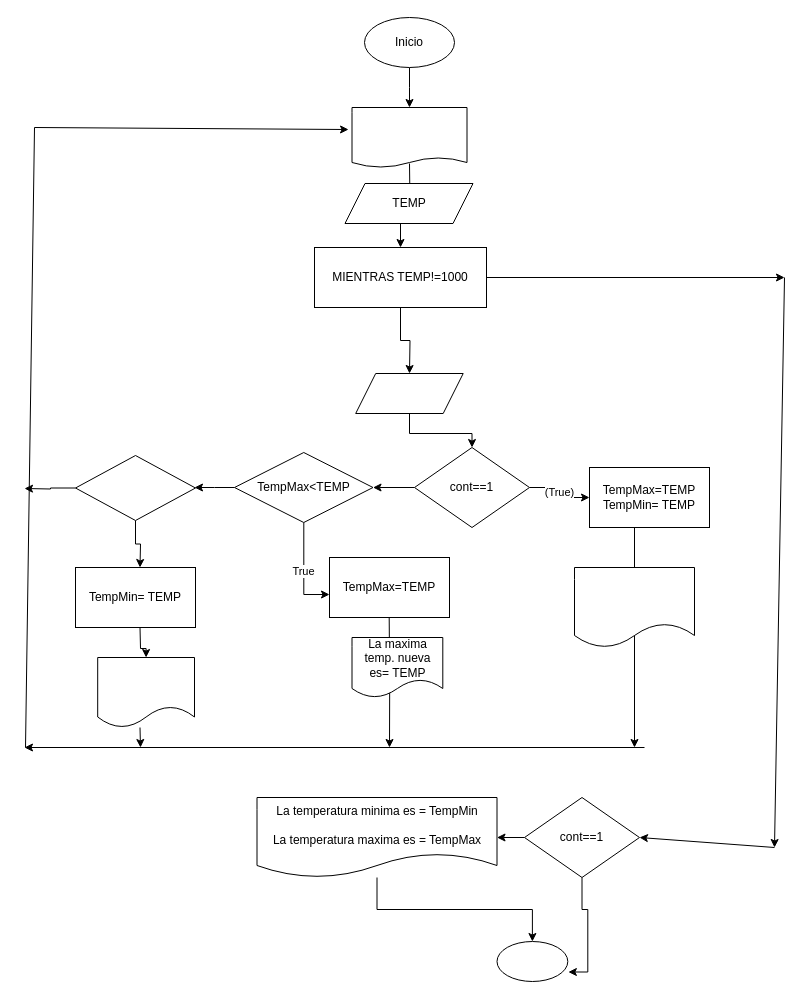
Image size: 810x999. Some labels were removed from this diagram. Here are the shapes that lost their labels. From the top down, the centre of each, then its label:
At [409,137]: "INGRESA LA TEMPERATURA".
At [409,393]: "cont++".
At [135,487]: "TempMin>TEMP".
At [634,607]: "La temperatura maxima y minima nueva es = TEMP".
At [145,692]: "La minima temp. nueva es= TEMP".
At [532,961]: "Fin".
